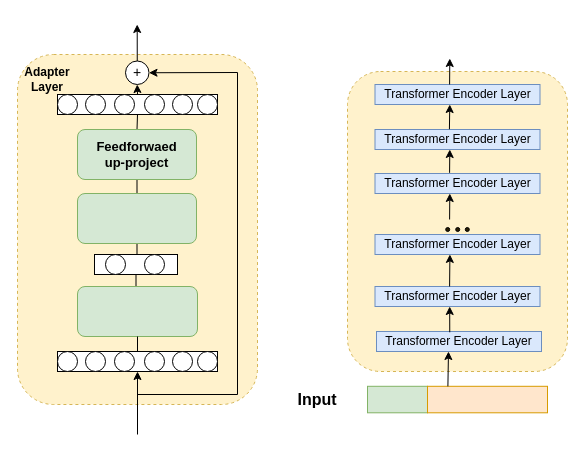
Some shapes in this 585 by 460 pixel diagram are drawn without their labels. Here are the shapes that lost their labels. From the top down, the centre of each, then its label:
At (136,218): "Nonlinearity".
At (137,311): "Feedforward down-project".
At (397,399): "Prompt".
At (487,399): "Text tokens".
